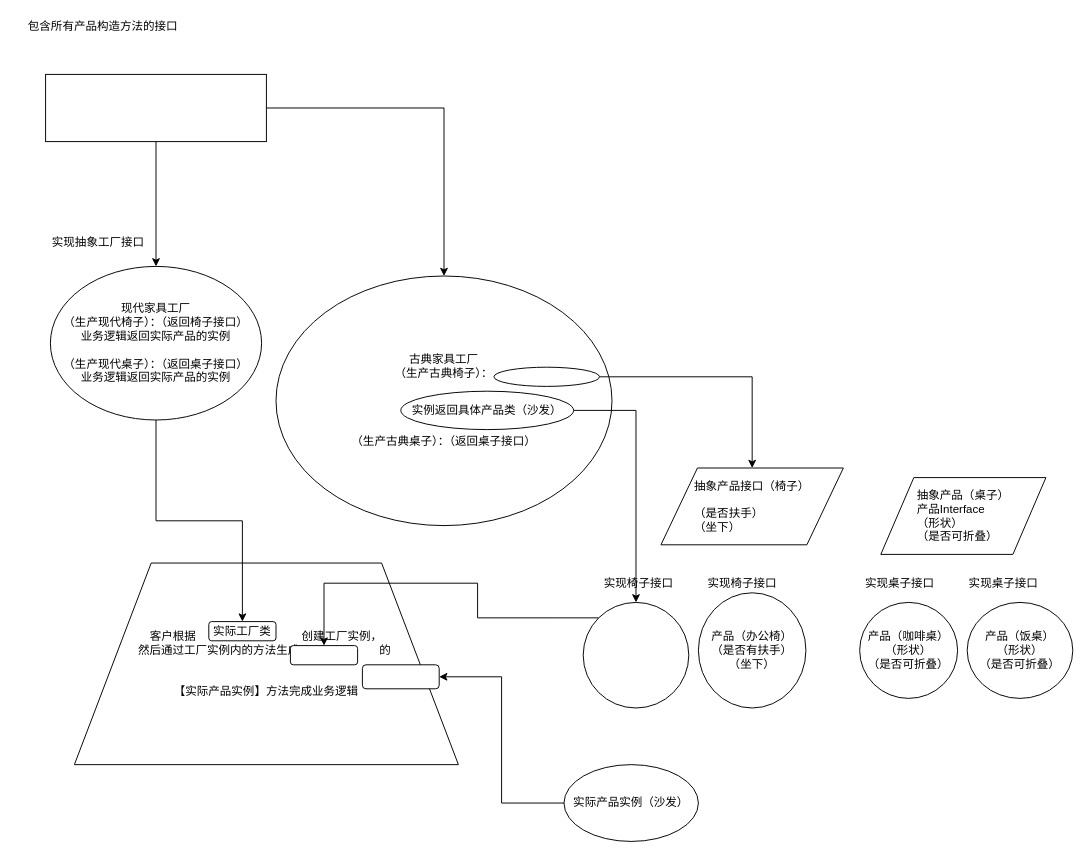
The diagram is 1090 pixels wide and 858 high, and some of its shapes have lost their labels. The shapes that lost their labels are listed below. From the top down, each one's centre as x and y in pixels, then its label:
(x=155, y=107): 抽象工厂接口 （创建椅子）：（返回椅子类型） （创建桌子）：（返回桌子类型）
(x=546, y=376): （返回椅子接口）
(x=323, y=655): 实际产品类
(x=635, y=654): 实际产品类（沙发） （是否有扶手） （坐下）
(x=400, y=676): 实际产品实例
